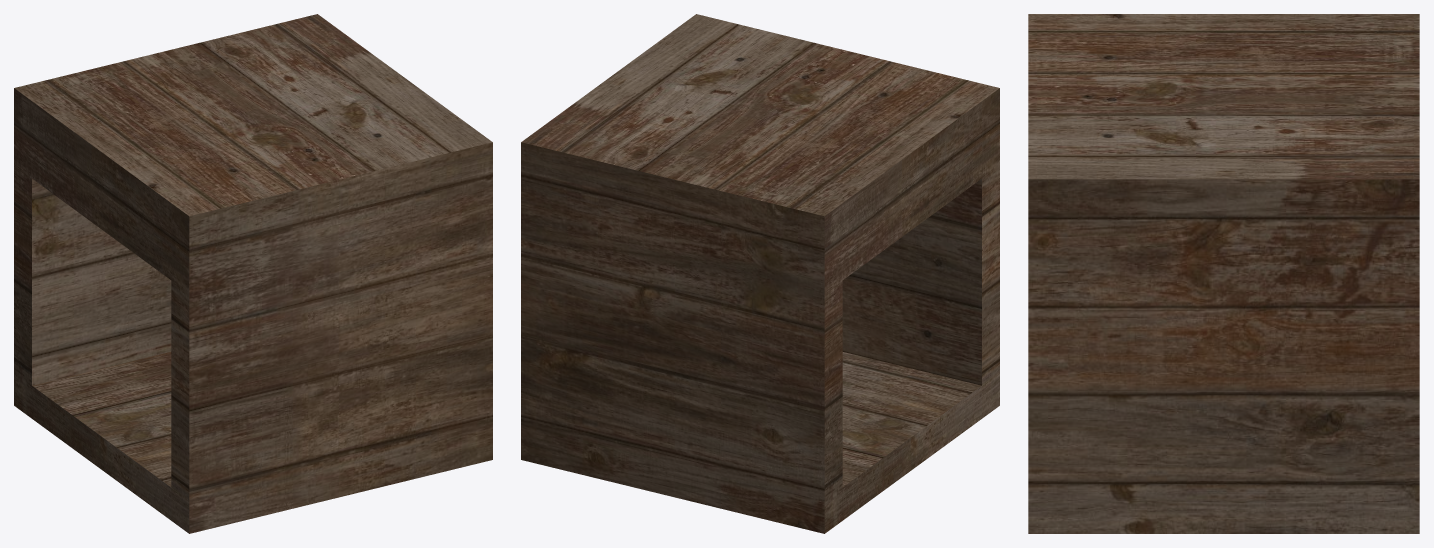
File: NightStand_1.fbx
3 renders of one model, left to right at view 1: azimuth 30°, elevation 25°; view 2: azimuth 150°, elevation 25°; view 3: azimuth 270°, elevation 25°, orthographic. The views are drawn at different scales.
Parts seen in each view (by area): view 1: NightStand_1; view 2: NightStand_1; view 3: NightStand_1.
Boxes of the visible parts, x1=… form: NightStand_1: x1=14, y1=14, x2=492, y2=533; NightStand_1: x1=521, y1=14, x2=999, y2=533; NightStand_1: x1=1028, y1=14, x2=1419, y2=533.
Size of the model in its own units: 162 by 162 by 162.
